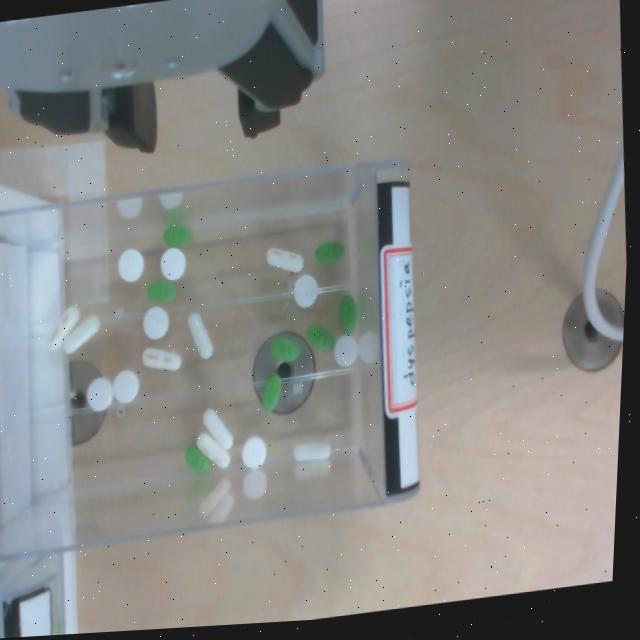magmil_tab: (113, 369, 139, 404), (293, 274, 319, 308), (160, 247, 186, 281), (118, 248, 144, 282), (87, 377, 113, 411), (144, 306, 169, 339), (242, 436, 266, 469), (334, 334, 358, 367)
medilacsenteric_tab: (62, 315, 100, 353), (50, 306, 80, 351), (197, 432, 230, 468), (204, 409, 233, 449), (188, 313, 213, 358), (266, 247, 303, 273), (142, 347, 181, 371), (293, 442, 331, 462)
nexilen_tab: (261, 373, 282, 412), (185, 445, 211, 474), (147, 279, 176, 304), (271, 337, 299, 362), (339, 295, 356, 334), (316, 241, 344, 264), (164, 224, 191, 247), (308, 326, 333, 350)
